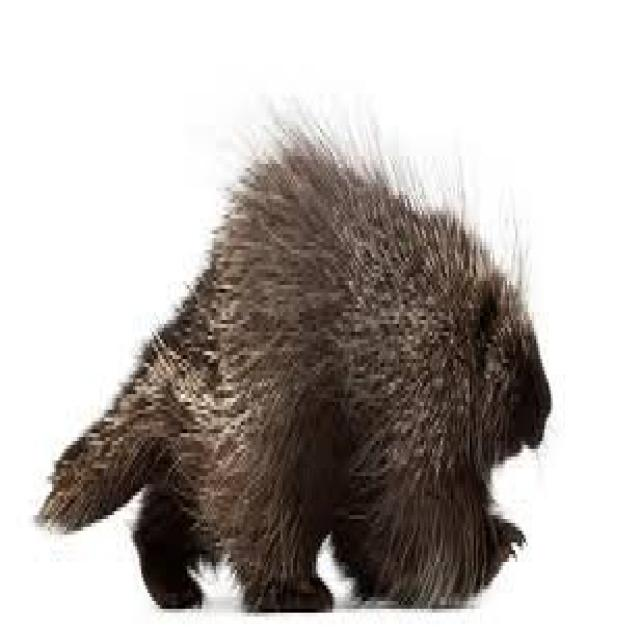Porcupine: (59, 114, 555, 590)
